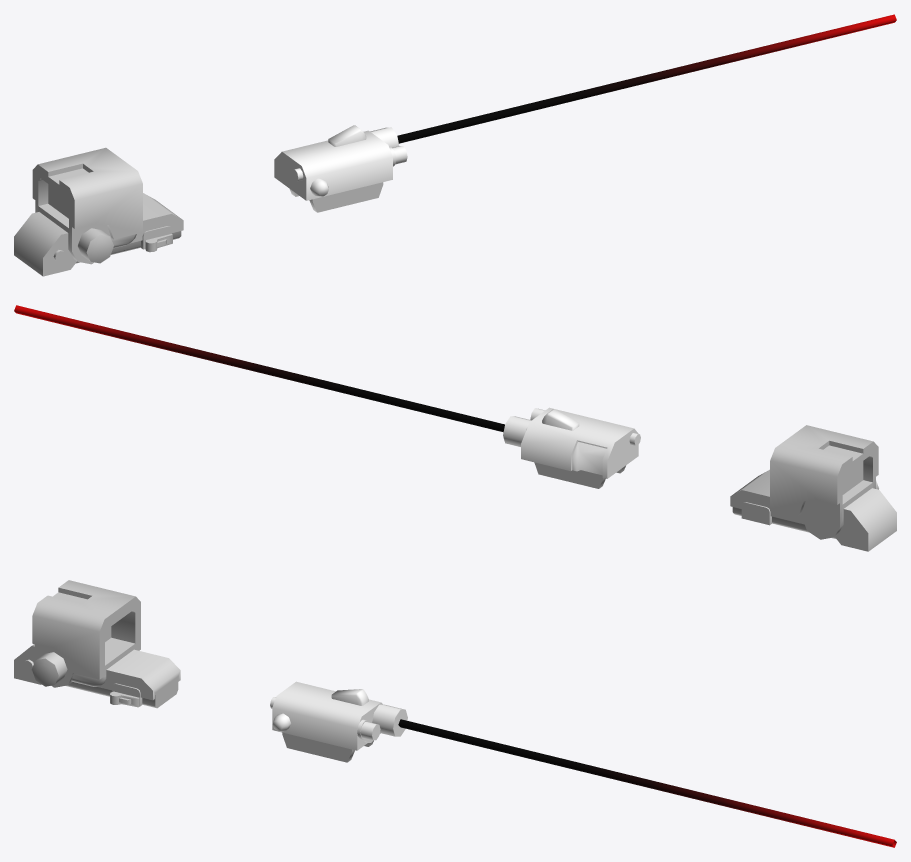
File: SM_LWMagSMG_OpticB.fbx
The picture shows the model from 3 angles, top to bottom: view 1: azimuth 30°, elevation 25°; view 2: azimuth 150°, elevation 25°; view 3: azimuth 330°, elevation 25°; orthographic projection.
Parts seen in each view (by area): view 1: SM_MagAssaultRifle_OpticB.001; view 2: SM_MagAssaultRifle_OpticB.001; view 3: SM_MagAssaultRifle_OpticB.001.
Part boxes in pixels (<box>): SM_MagAssaultRifle_OpticB.001: <box>14,14,896,276</box>; SM_MagAssaultRifle_OpticB.001: <box>14,305,896,551</box>; SM_MagAssaultRifle_OpticB.001: <box>14,580,896,847</box>.
Bounding box in the file's own units: 63.59 × 6.21 × 6.17.
